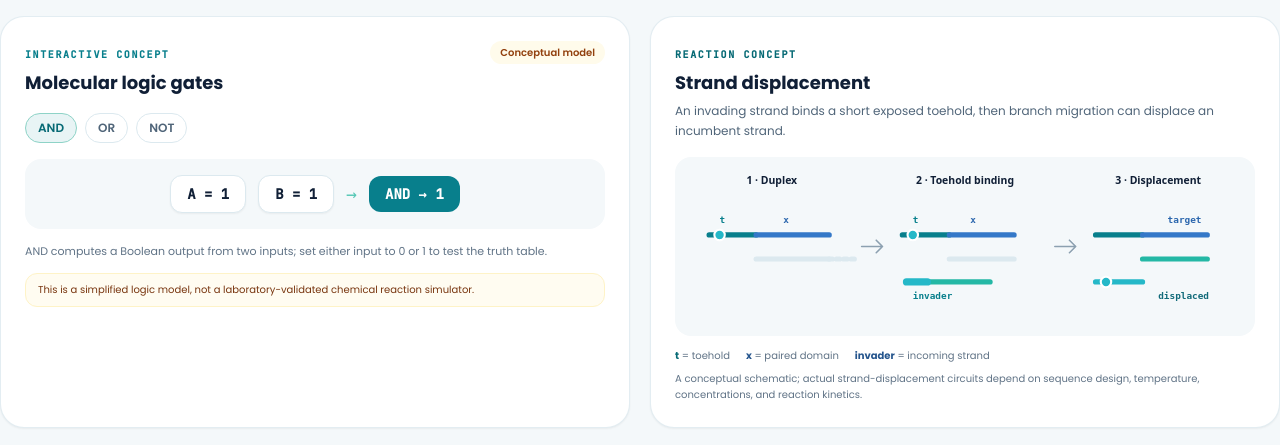
Test case: interactive learning components › updates Boolean output when molecular gate inputs change
Check: the text "AND → 1" is shown, box [369,176,460,212]
Click the button named "Input B is 1; toggle": [296, 194] box [258,175,334,213]
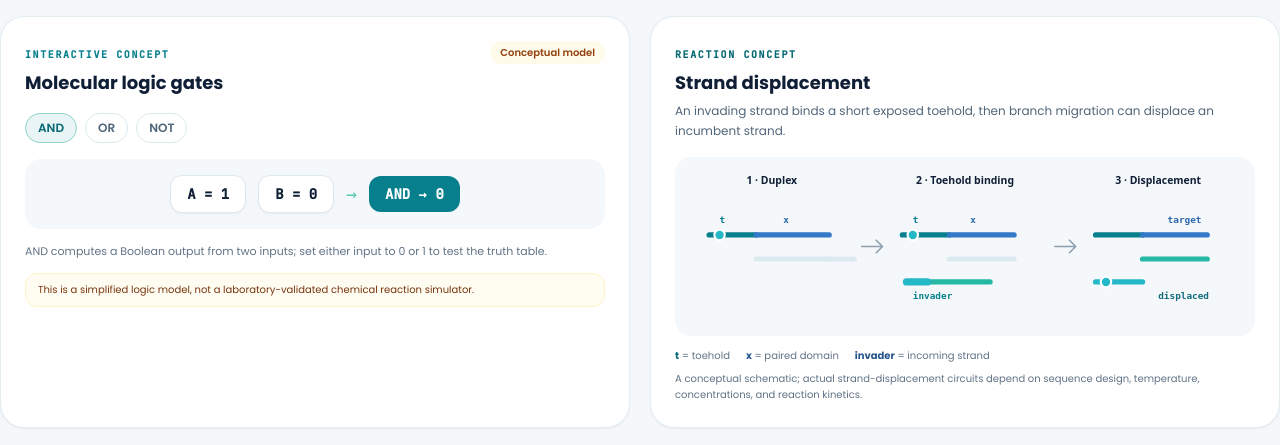
Check: the text "AND → 0" is shown, box [369,176,460,212]
Click the button "OR": [107, 128] box [85,113,128,143]
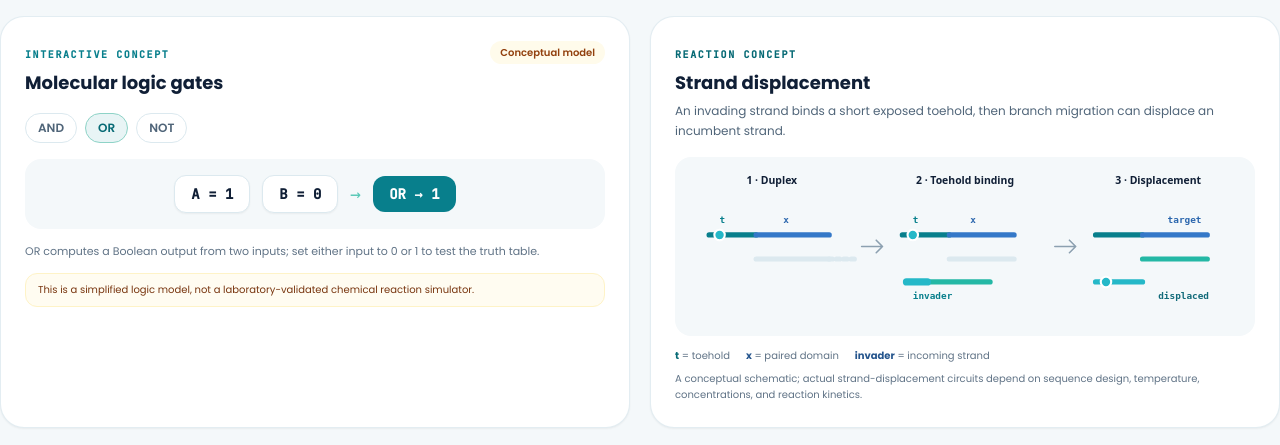
Check: the text "OR → 1" is shown, box [373,176,456,212]
